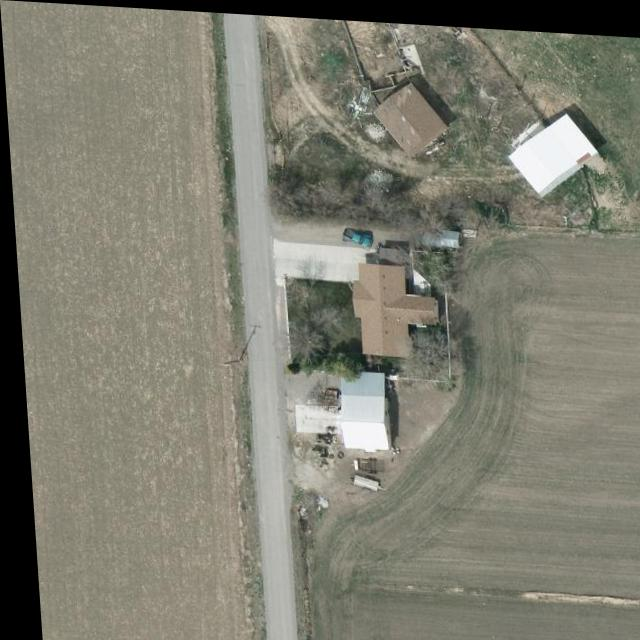vehicle: (337, 224, 370, 245)
